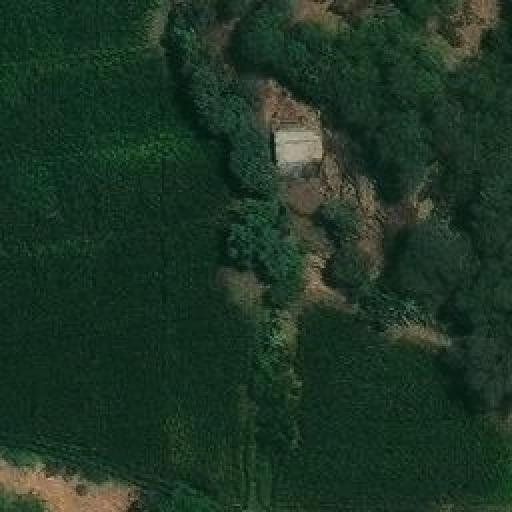manzanas: (275, 117, 327, 167)
